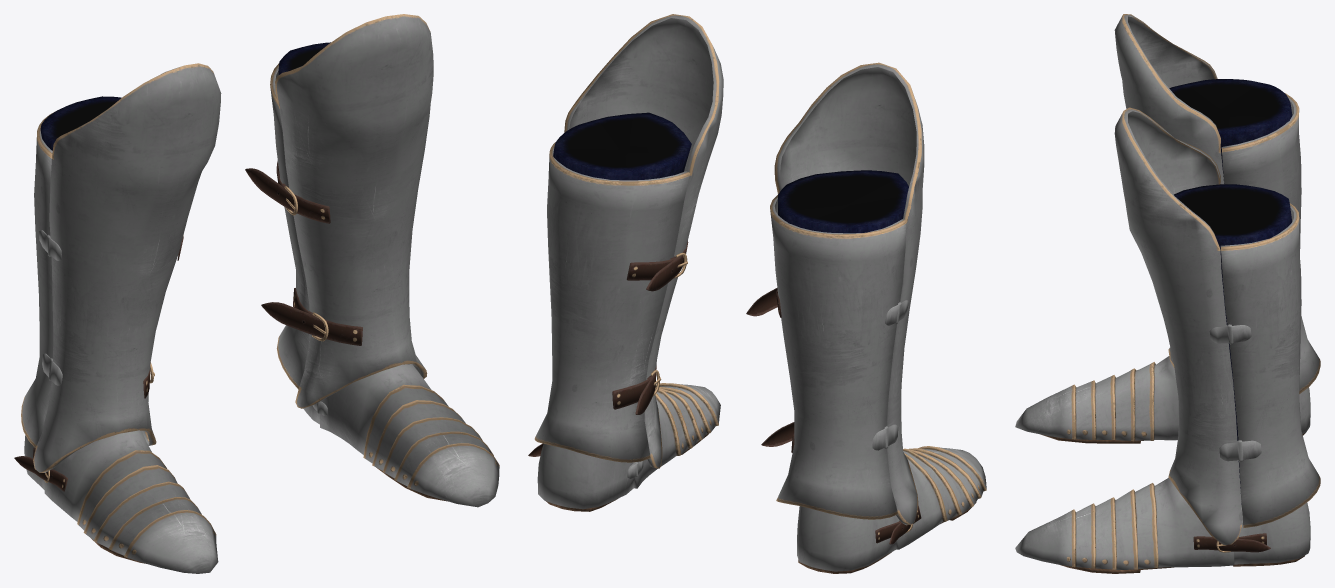
Rendered from swan_knight_greaves_a_sabatons.fbx.
3 renders of one model, left to right at view 1: azimuth 30°, elevation 25°; view 2: azimuth 150°, elevation 25°; view 3: azimuth 270°, elevation 25°, orthographic. The views are drawn at different scales.
Parts seen in each view (by area): view 1: swan_knight_greaves_a_sabatons; view 2: swan_knight_greaves_a_sabatons; view 3: swan_knight_greaves_a_sabatons.
Part boxes in pixels (x1,y1,x2,y2): swan_knight_greaves_a_sabatons: (14,14,499,573); swan_knight_greaves_a_sabatons: (528,14,986,573); swan_knight_greaves_a_sabatons: (1015,14,1320,573).
Size of the model in its own units: 0.482 by 0.3518 by 0.5374.
Materials: 1 (1 with a texture image).
